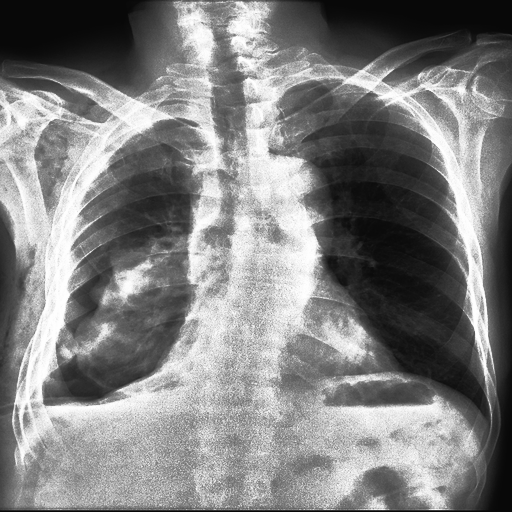Aortic enlargement: (76, 232, 195, 388)
Atelectasis: (43, 243, 132, 405)
Calcification: (32, 88, 207, 395), (19, 368, 73, 425)
Consolidation: (246, 157, 334, 229)
Other lesion: (200, 58, 311, 409), (1, 270, 23, 363)
Pleural effusion: (19, 368, 73, 425), (25, 402, 142, 419)
Pleural thickening: (69, 231, 205, 385)
